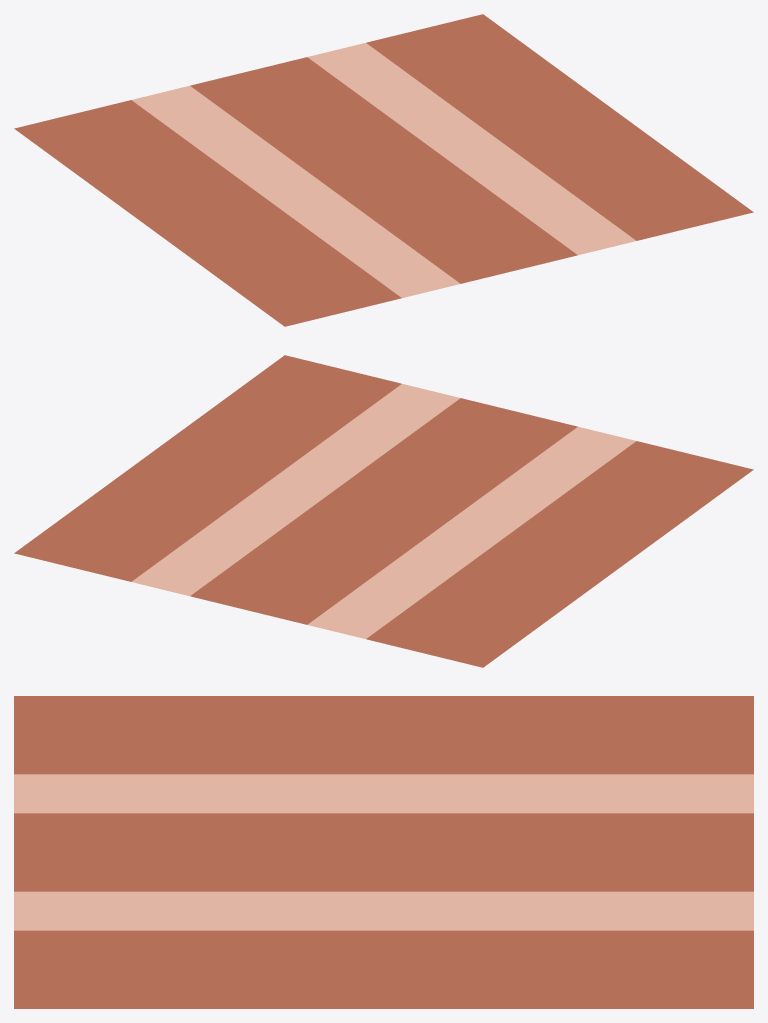
The model's file is terrain_roadStraight.glb.
The picture shows the model from 3 angles, top to bottom: view 1: azimuth 30°, elevation 25°; view 2: azimuth 150°, elevation 25°; view 3: azimuth 270°, elevation 25°; orthographic projection. The views are drawn at different scales.
Visible parts, largest first — view 1: terrain_roadStraight; view 2: terrain_roadStraight; view 3: terrain_roadStraight.
Part boxes in pixels (x1,y1,x2,y2): terrain_roadStraight: (14,14,753,326); terrain_roadStraight: (14,355,753,667); terrain_roadStraight: (14,696,753,1008).
Size of the model in its own units: 1.3 by 0 by 1.3.
